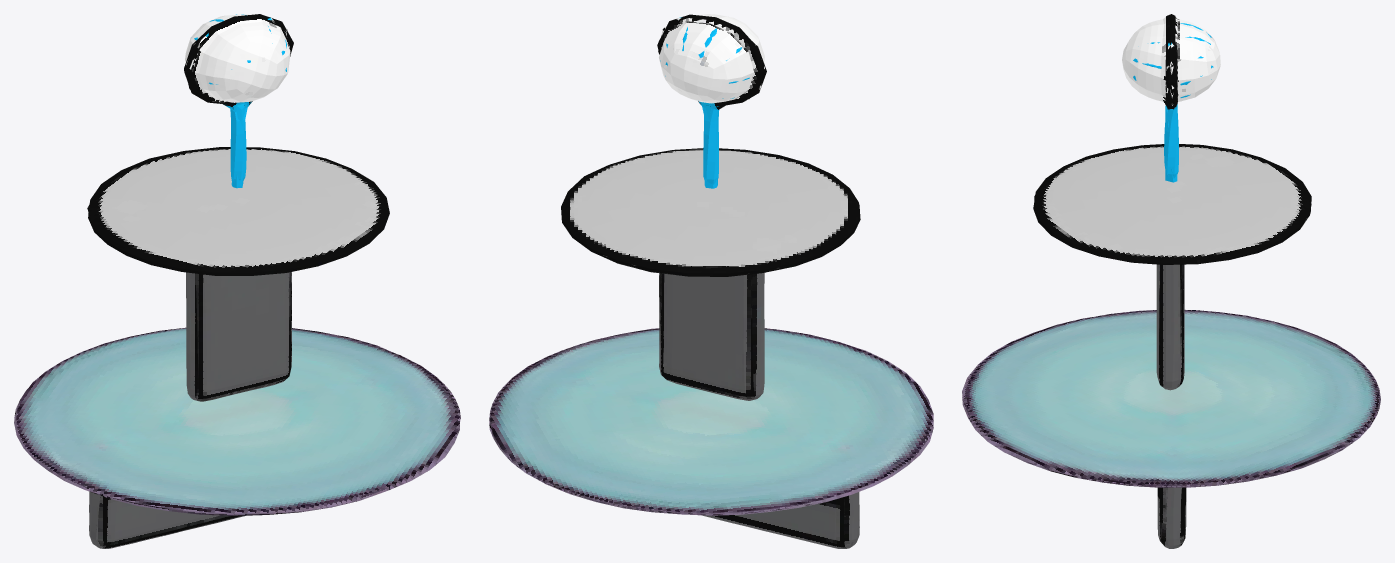
File: Fountain_QuadRetro.glb
3 views of the same model, side by side, from view 1: azimuth 30°, elevation 25°; view 2: azimuth 150°, elevation 25°; view 3: azimuth 270°, elevation 25° (orthographic). The views are drawn at different scales.
Visible parts, largest first — view 1: Fountain_QuadRemesh; view 2: Fountain_QuadRemesh; view 3: Fountain_QuadRemesh.
Part boxes in pixels (box(x1,y1,x2,y2)): Fountain_QuadRemesh: box(14, 14, 460, 548); Fountain_QuadRemesh: box(489, 14, 933, 548); Fountain_QuadRemesh: box(962, 14, 1380, 548).
Size of the model in its own units: 1.62 by 2 by 1.62.
1 material, 1 textured.
